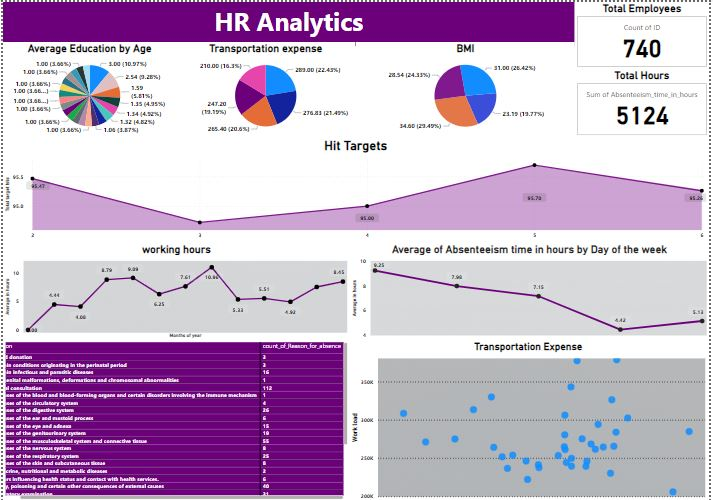

The dashboard page shown, as its layout file describes it:
{"tool":"powerbi","page":{"name":"Page 1","canvas":[1580,1120],"ordinal":0},"visuals":[{"type":"textbox","box":[0,0,1280,99.1],"z":0},{"type":"cardVisual","title":"Total Hours","fields":{"Data":["Sum(Optimize_querry_HR.Absenteeism_time_in_hours)"]},"box":[1280.8,150,300,153.8],"z":1000},{"type":"cardVisual","title":"Total Employees","fields":{"Data":["Count(Optimize_querry_HR.ID)"]},"box":[1280.8,0,300,150],"z":2000},{"type":"pieChart","title":"Average Education by Age","fields":{"Y":["Avg(Education.Education)"],"Category":["Education.Age"]},"box":[0,90.2,388.2,213.7],"z":3000},{"type":"lineChart","title":"working hours ","fields":{"Category":["Optimize_querry_HR.Month"],"Y":["Avg(Optimize_querry_HR.Absenteeism_time_in_hours)"]},"box":[0,539.2,776.5,217.6],"z":5000},{"type":"lineChart","title":"Average of Absenteeism time in hours by Day of the week","fields":{"Category":["Optimize_querry_HR.Day_of_the_week"],"Y":["Avg(Optimize_querry_HR.Absenteeism_time_in_hours)"]},"box":[776.5,539.2,803.9,219.6],"z":6000},{"type":"tableEx","fields":{"Values":["Count_of_reason_for_absence.Reason","Count_of_reason_for_absence.count_of_Reason_for_absence"]},"box":[0,757.7,776.9,361.5],"z":7000},{"type":"scatterChart","title":" Transportation Expense","fields":{"X":["Avg(Optimize_querry_HR.Transportation_expense)"],"Y":["Optimize_querry_HR.Work_load"]},"box":[775.9,758.6,803.4,362.1],"z":8000},{"type":"pieChart","title":"Transportation expense","fields":{"Y":["Avg(transportation_expensive.Transportation_expense)"],"Category":["transportation_expensive.Day_of_the_week"]},"box":[388.2,90.2,402,213.7],"z":9000},{"type":"pieChart","title":"BMI","fields":{"Series":["BMI_Catagory.BMI_Catagory"],"Y":["Avg(BMI_Catagory.Body_mass_index)"]},"box":[790.2,90.2,490.2,213.7],"z":10000},{"type":"stackedAreaChart","title":"Hit Targets","fields":{"Category":["Non_smokers.Day_of_the_week"],"Y":["Avg(Non_smokers.Hit_target)"]},"box":[0,303.9,1580.4,235.3],"z":10001}]}

Visuals, with their boxes in screenshot pixels (x1, y1, x2, y2), scaled from the page's 1580x1120 canvas onto the 713x500 screenshot:
textbox: [x1=0, y1=0, x2=578, y2=44]
"Total Hours" cardVisual: [x1=578, y1=67, x2=712, y2=136]
"Total Employees" cardVisual: [x1=578, y1=0, x2=712, y2=67]
"Average Education by Age" pieChart: [x1=0, y1=40, x2=175, y2=136]
"working hours " lineChart: [x1=0, y1=241, x2=350, y2=338]
"Average of Absenteeism time in hours by Day of the week" lineChart: [x1=350, y1=241, x2=712, y2=339]
tableEx - Count_of_reason_for_absence.Reason x Count_of_reason_for_absence.count_of_Reason_for_absence: [x1=0, y1=338, x2=351, y2=499]
" Transportation Expense" scatterChart: [x1=350, y1=339, x2=712, y2=499]
"Transportation expense" pieChart: [x1=175, y1=40, x2=357, y2=136]
"BMI" pieChart: [x1=357, y1=40, x2=578, y2=136]
"Hit Targets" stackedAreaChart: [x1=0, y1=136, x2=712, y2=241]
